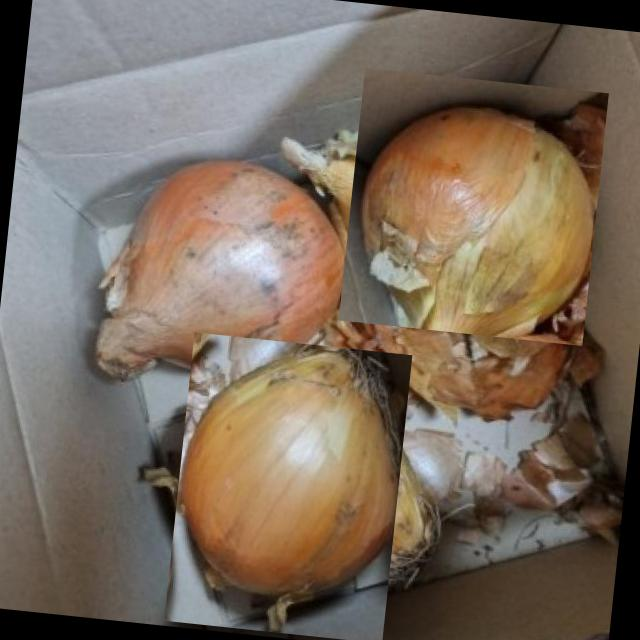Onion: (148, 347, 428, 628), (336, 70, 611, 344), (76, 148, 347, 408)
